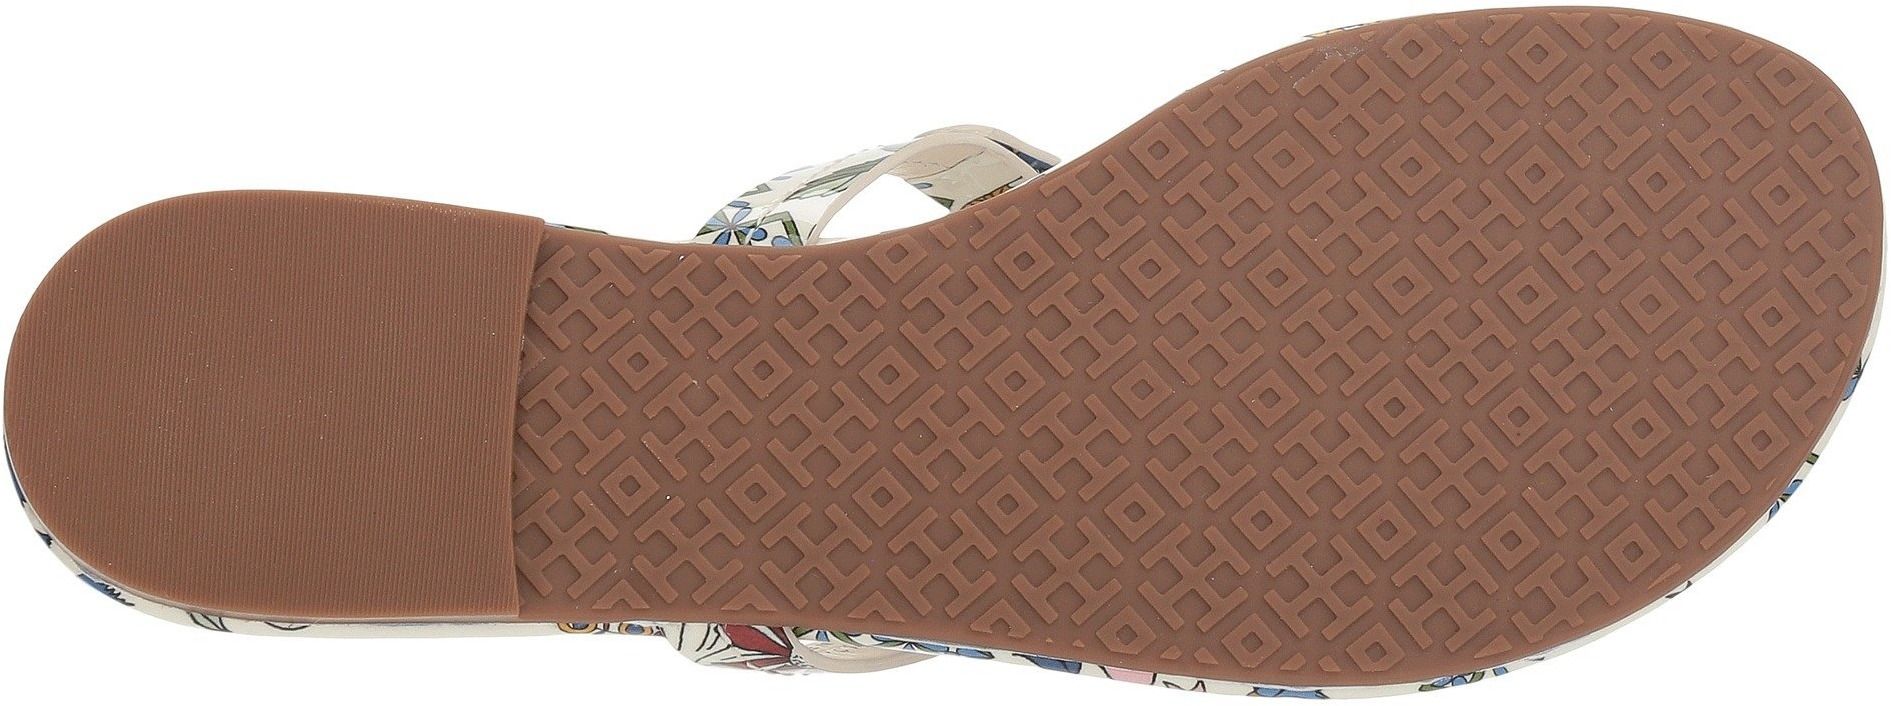line: (6, 198, 548, 615)
star: (895, 197, 1018, 611), (637, 251, 756, 596), (523, 237, 630, 611), (771, 266, 876, 596)
